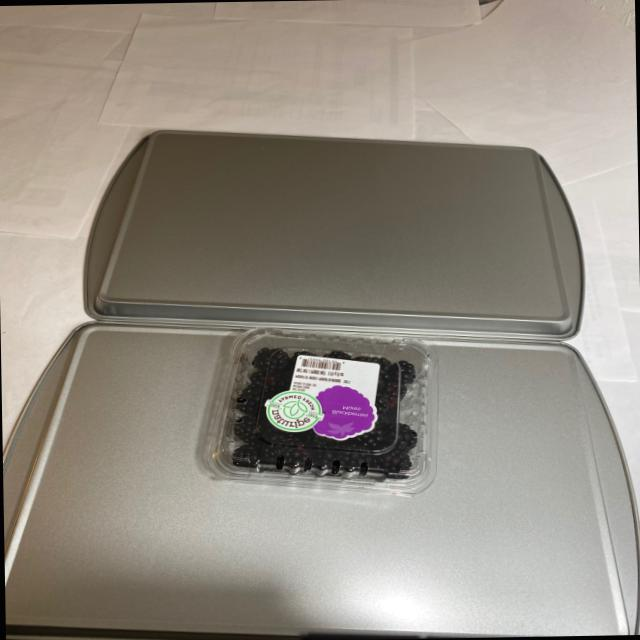blackberries: (204, 327, 429, 481)
